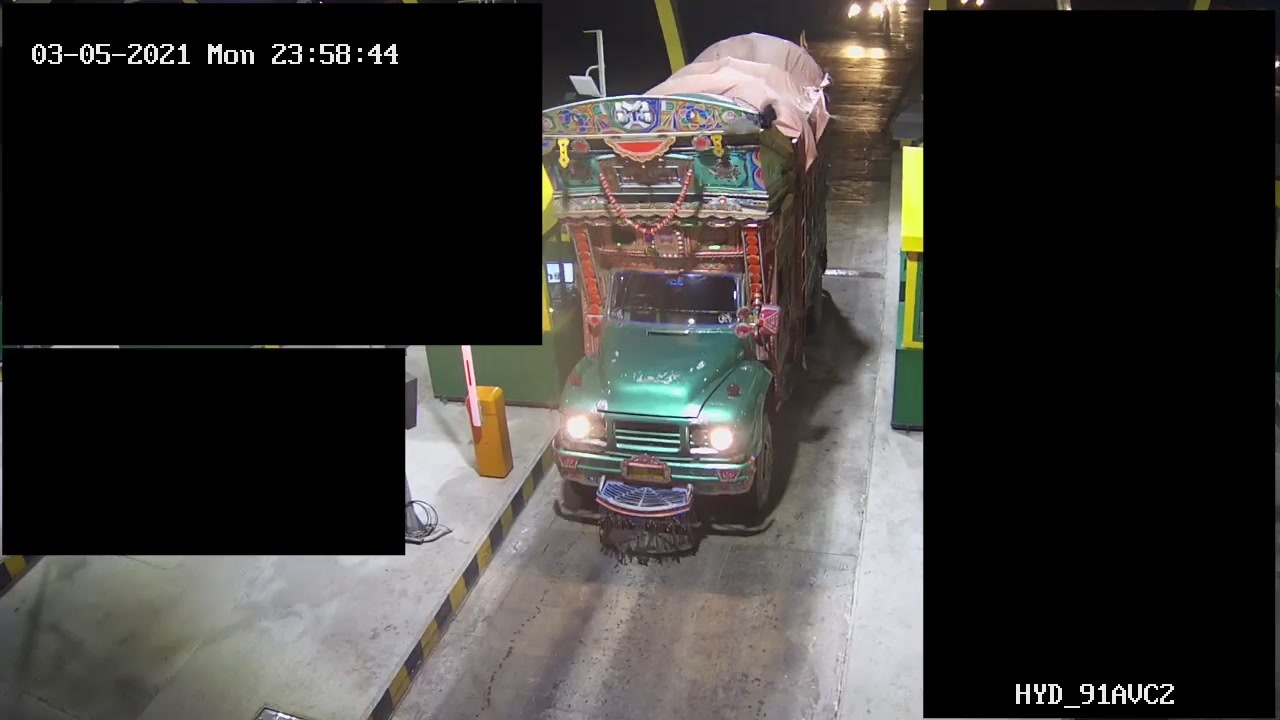F5: (524, 35, 841, 564)
